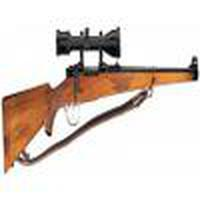gun: (1, 62, 199, 167)
